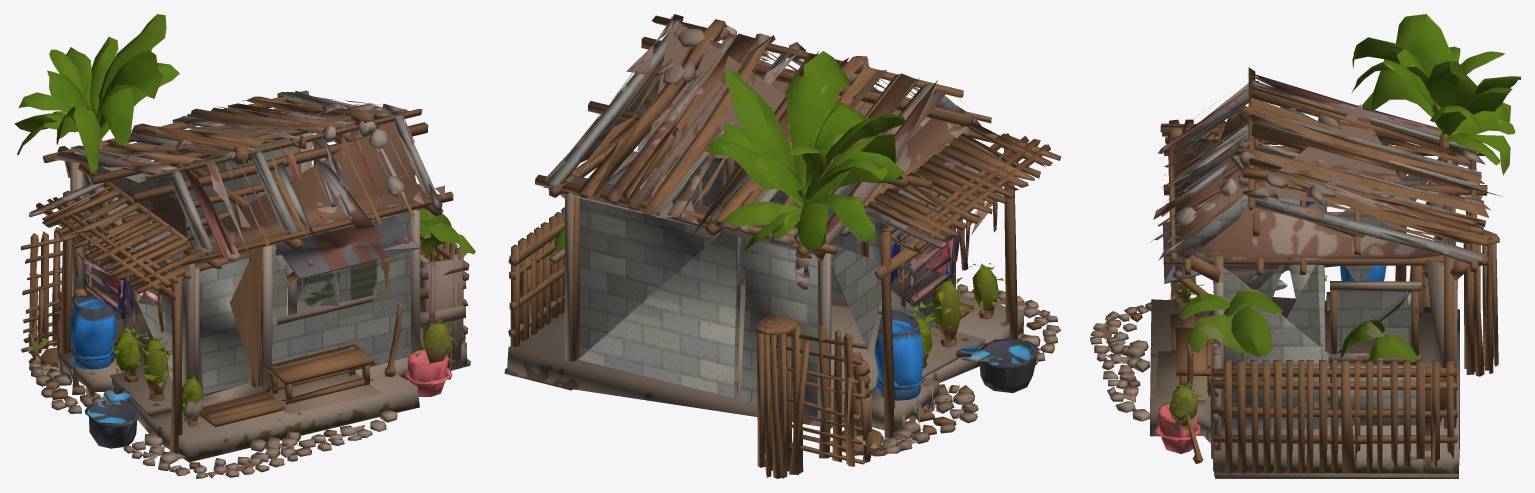
Rendered from house_1.glb.
3 renders of one model, left to right at view 1: azimuth 30°, elevation 25°; view 2: azimuth 150°, elevation 25°; view 3: azimuth 270°, elevation 25°, orthographic. The views are drawn at different scales.
Visible parts, largest first — view 1: Mesh0; view 2: Mesh0; view 3: Mesh0.
Part boxes in pixels (x1,y1,x2,y2): Mesh0: (14, 14, 475, 478); Mesh0: (504, 14, 1061, 478); Mesh0: (1090, 14, 1520, 478).
Size of the model in its own units: 1 by 0.8726 by 0.998.
1 material, 1 textured.
